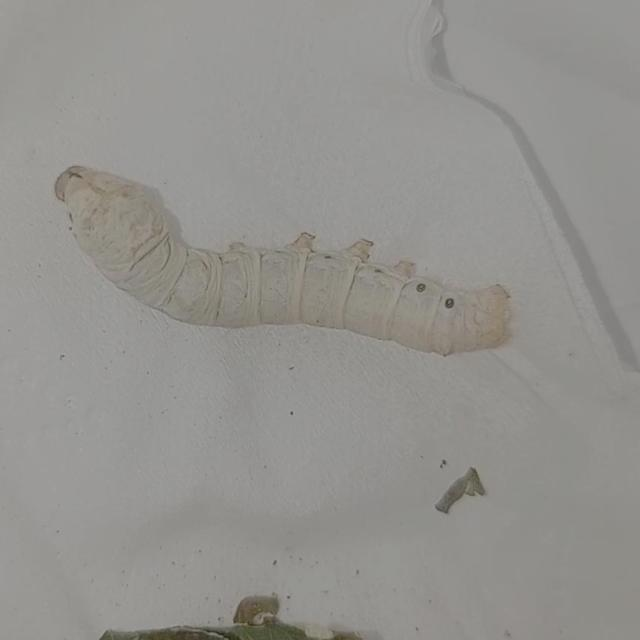Healthy: (43, 146, 520, 366)
